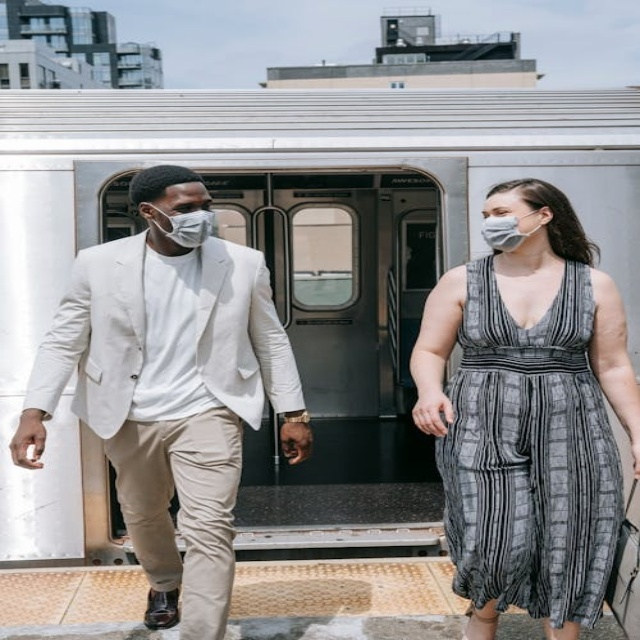Mascara: (148, 204, 215, 247), (481, 211, 543, 252)
Sin_gafas: (173, 203, 194, 213), (491, 209, 511, 216), (201, 202, 212, 210), (481, 211, 490, 218)
Sin_guantes: (406, 389, 467, 442), (10, 410, 55, 472), (274, 417, 321, 473)
